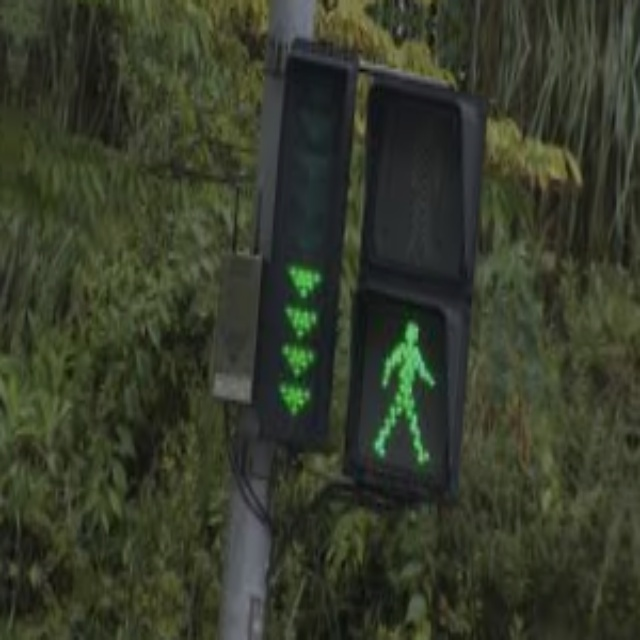green_light: (368, 309, 445, 476), (271, 376, 318, 425), (280, 260, 327, 302), (279, 339, 320, 377), (283, 301, 321, 341)
